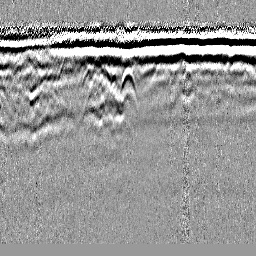cavity: (118, 64, 138, 104)
